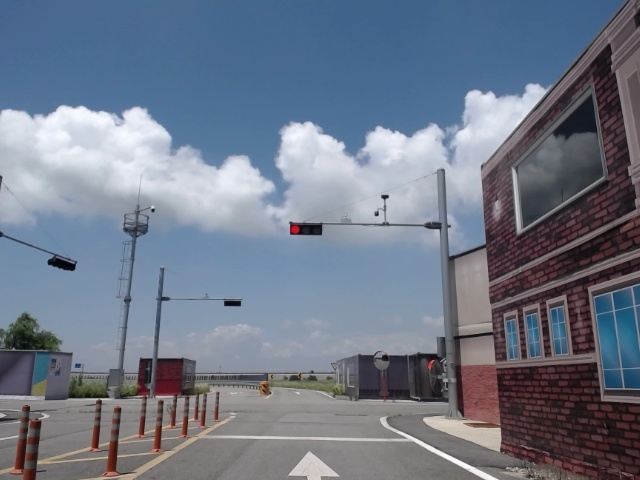red_3: (288, 222, 322, 237)
